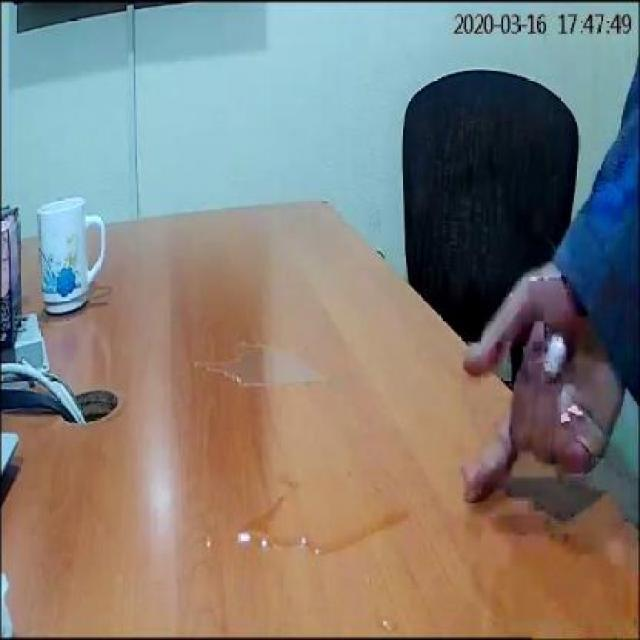spill: (239, 477, 407, 555), (200, 340, 322, 388)
